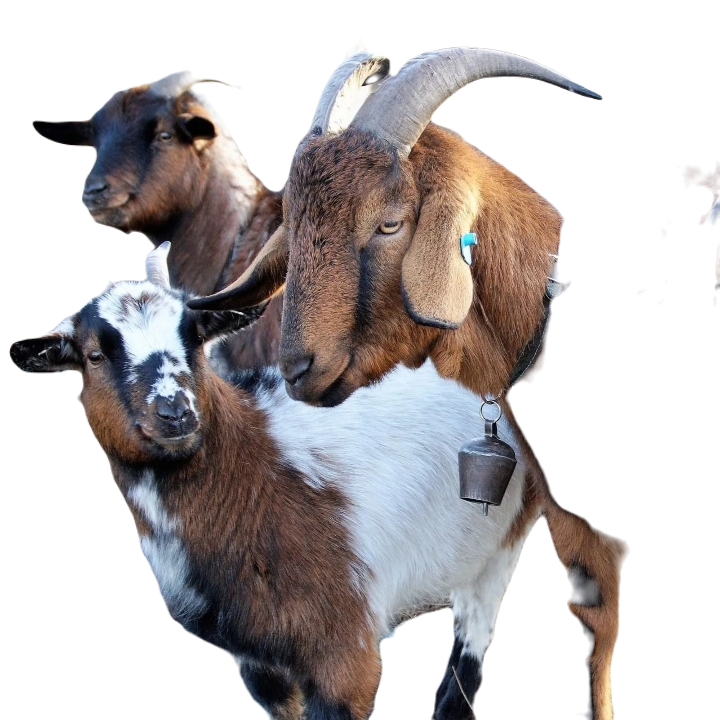Goat: (275, 44, 719, 719)
